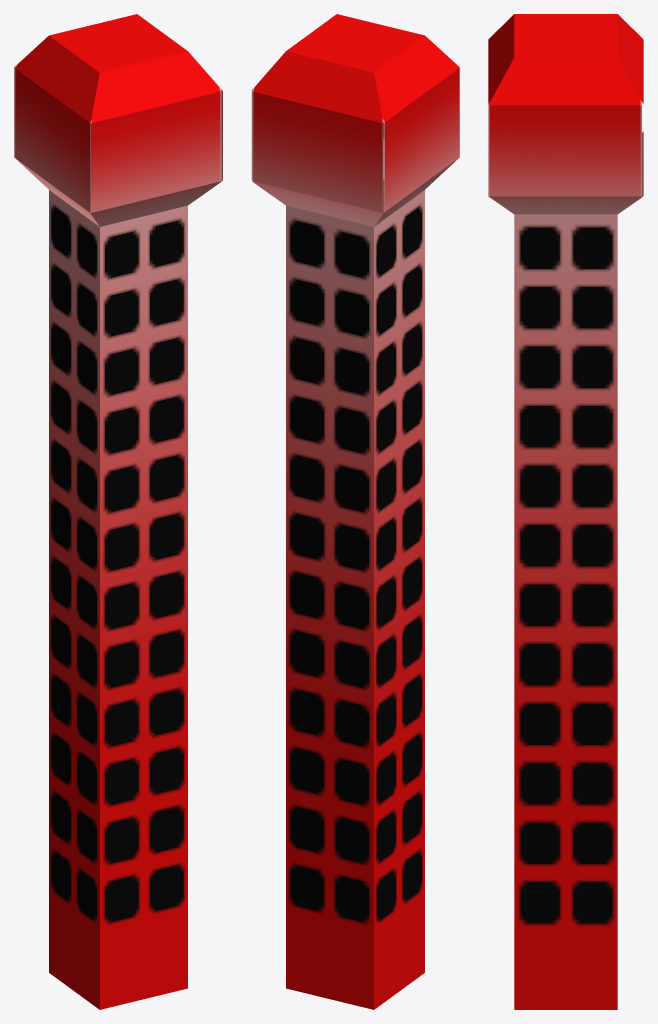
File: predio4.fbx
3 renders of one model, left to right at view 1: azimuth 30°, elevation 25°; view 2: azimuth 150°, elevation 25°; view 3: azimuth 270°, elevation 25°, orthographic.
Visible parts, largest first — view 1: predio4; view 2: predio4; view 3: predio4.
Boxes of the visible parts, x1=… form: predio4: x1=14, y1=14, x2=222, y2=1009; predio4: x1=251, y1=14, x2=459, y2=1009; predio4: x1=488, y1=14, x2=643, y2=1009.
Size of the model in its own units: 300 by 2030 by 300.
